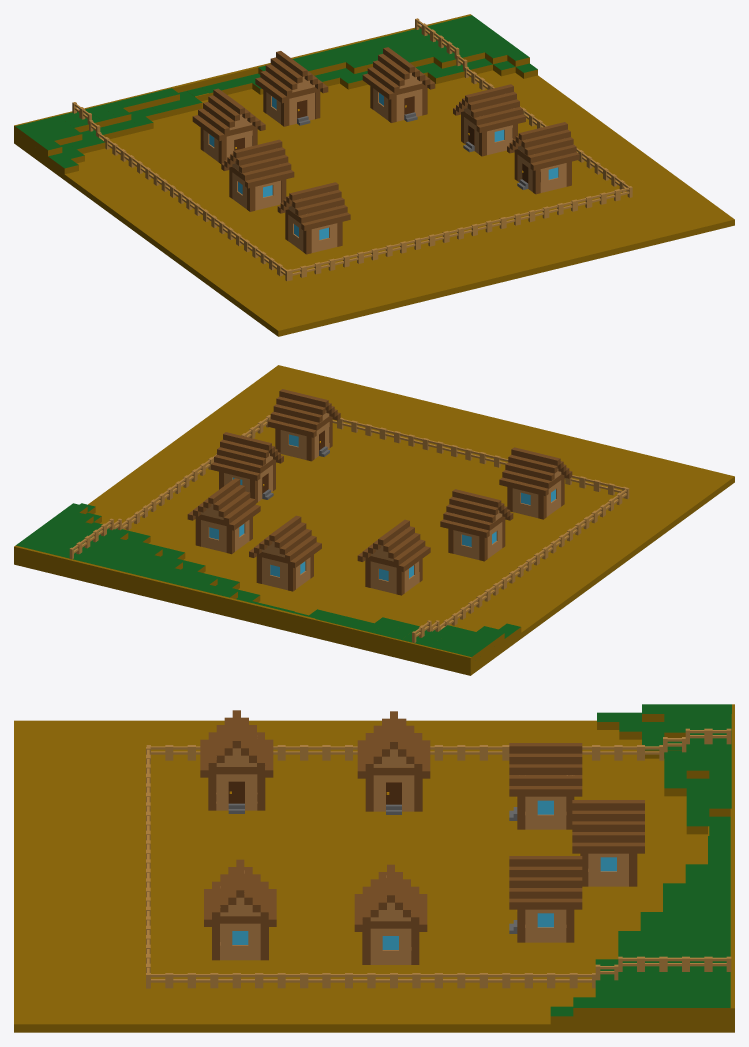
The model's file is ピクセル調フィールド2.fbx.
3 renders of one model, top to bottom at view 1: azimuth 30°, elevation 25°; view 2: azimuth 150°, elevation 25°; view 3: azimuth 270°, elevation 25°, orthographic. The views are drawn at different scales.
Visible parts, largest first — view 1: 立方体, house.004, house.005, house.007, house.001, house.002, house.003, house.006; view 2: 立方体, house.004, house.007, house.005, house.003, house.006, house.002, house.001; view 3: 立方体, house.003, house.006, house.007, house.005, house.002, house.001, house.004.
Part boxes in pixels (box(x1,y1,x2,y2)): 立方体: box(14, 14, 734, 336); house.004: box(507, 122, 579, 194); house.005: box(277, 182, 350, 254); house.007: box(221, 139, 294, 211); house.001: box(453, 84, 525, 156); house.002: box(255, 51, 328, 126); house.003: box(362, 47, 435, 122); house.006: box(192, 88, 265, 163); 立方体: box(14, 365, 734, 675); house.004: box(267, 389, 340, 461); house.007: box(440, 489, 513, 561); house.005: box(499, 447, 572, 519); house.003: box(187, 478, 260, 554); house.006: box(357, 519, 430, 595); house.002: box(249, 515, 321, 591); house.001: box(211, 432, 283, 503); 立方体: box(14, 704, 734, 1032); house.003: box(509, 856, 582, 942); house.006: box(509, 743, 582, 829); house.007: box(357, 711, 430, 814); house.005: box(200, 710, 273, 813); house.002: box(572, 800, 644, 886); house.001: box(354, 864, 427, 964); house.004: box(204, 859, 276, 960).
Size of the model in its own units: 320 by 41.94 by 321.
